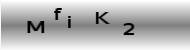2: (122, 21, 135, 36)
K: (94, 11, 111, 26)
M: (26, 20, 45, 34), (52, 7, 62, 20)
i: (65, 14, 73, 29)
